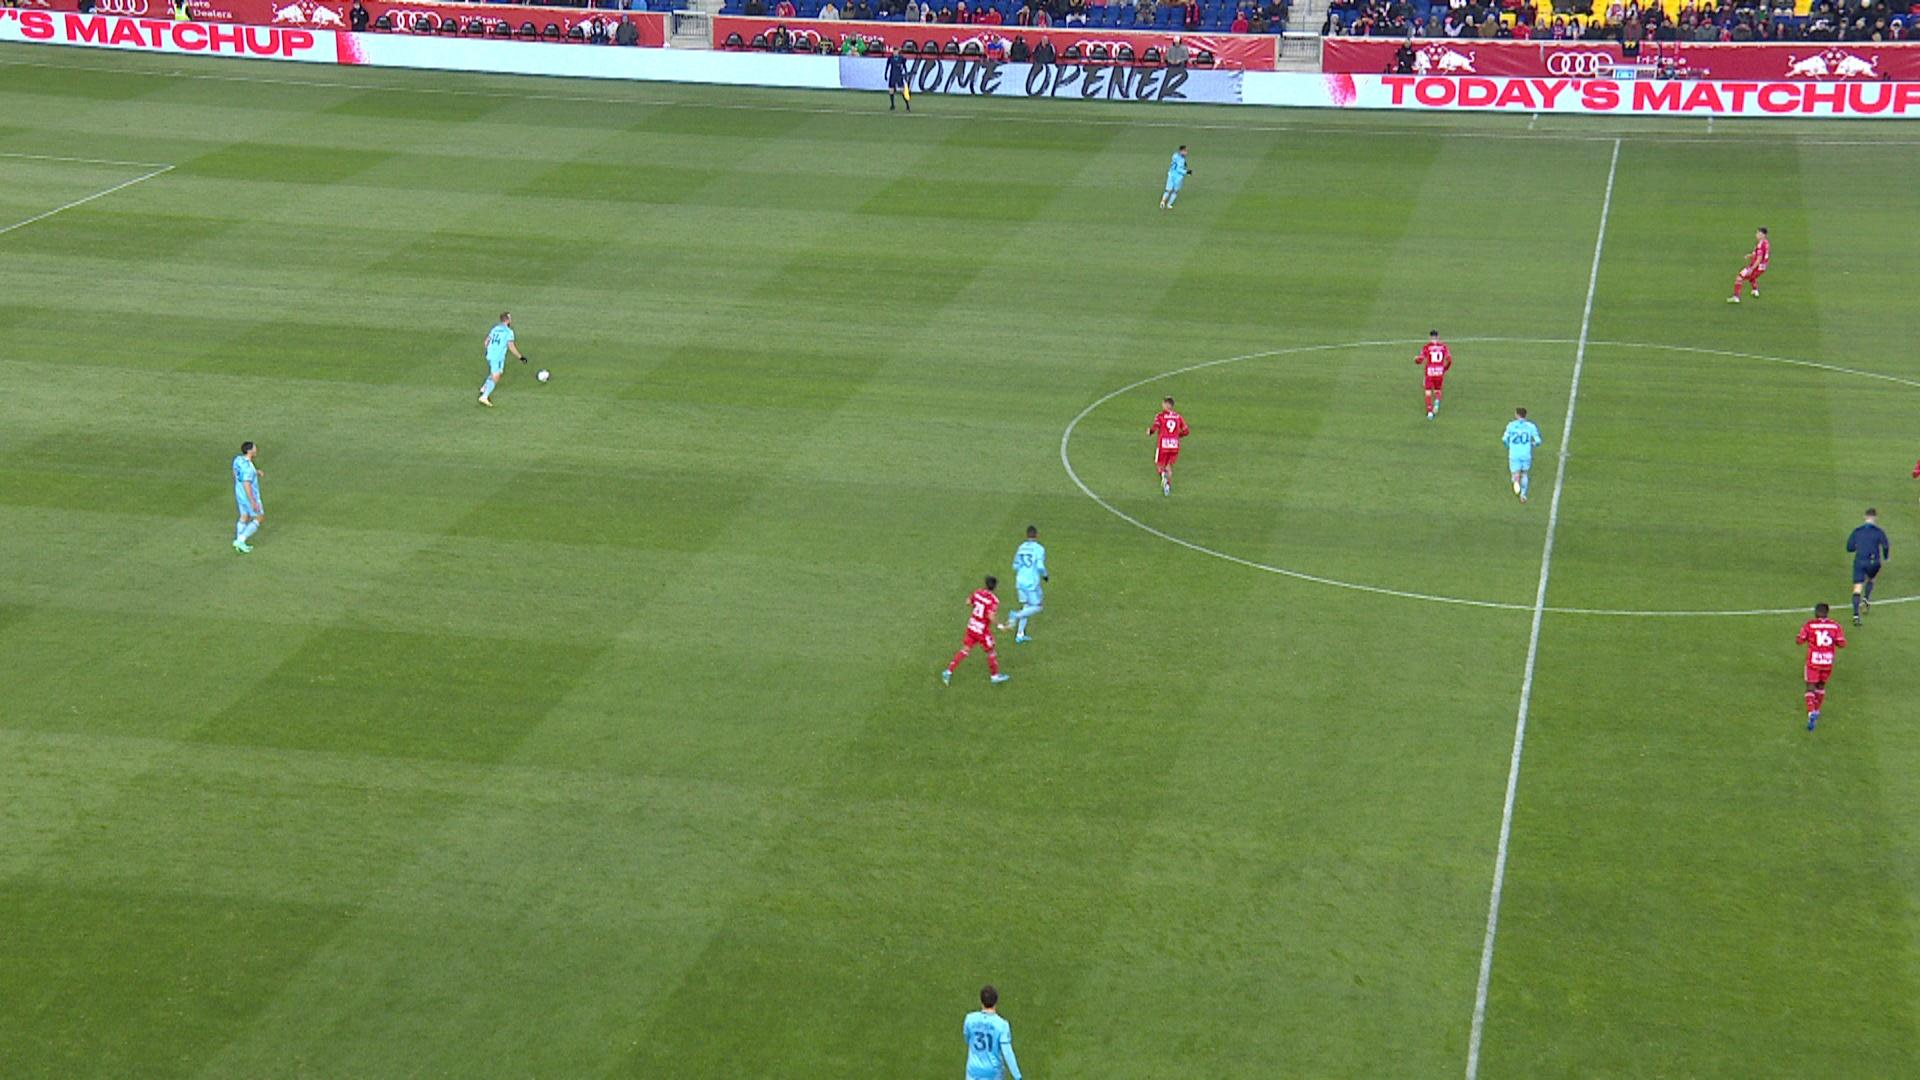football: (537, 369, 551, 384)
